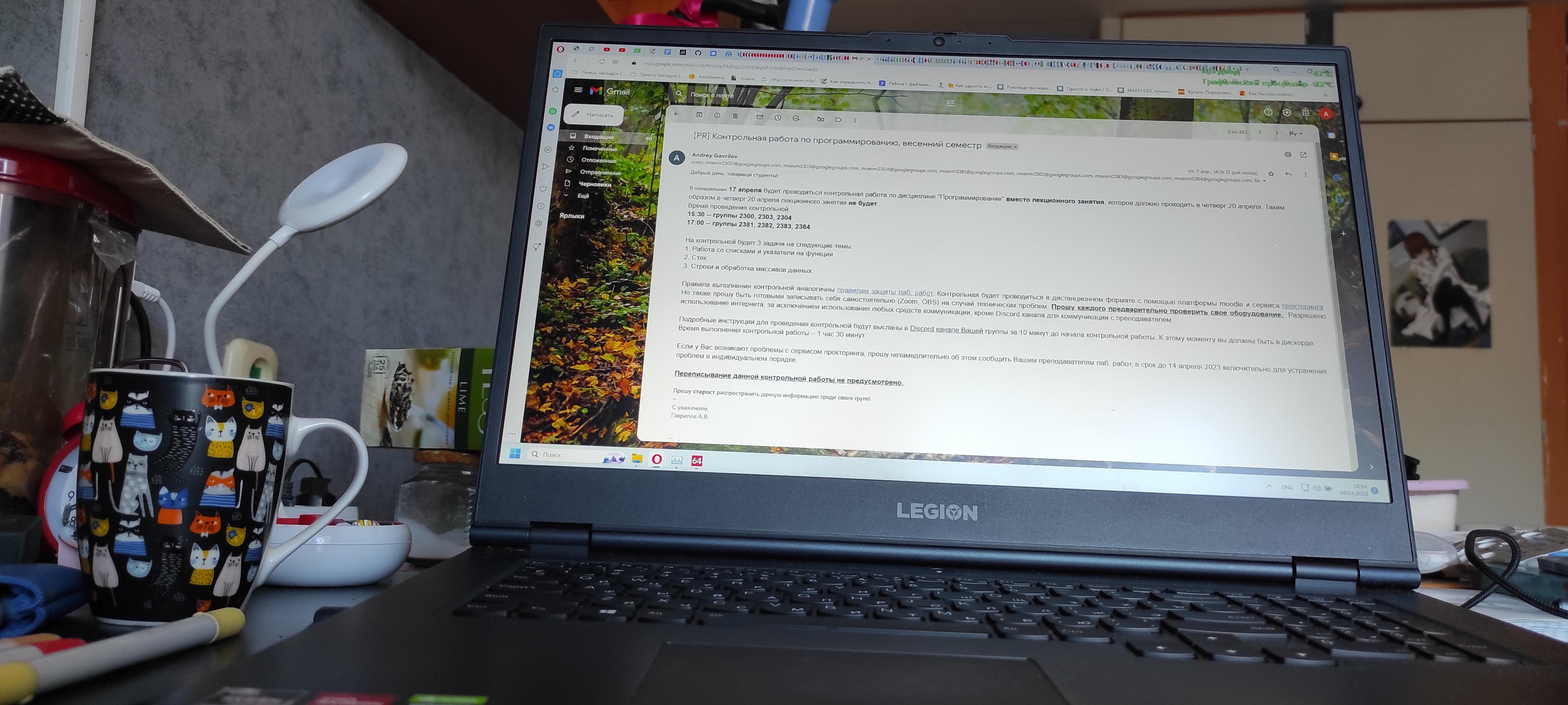monitor: (466, 22, 1436, 586)
